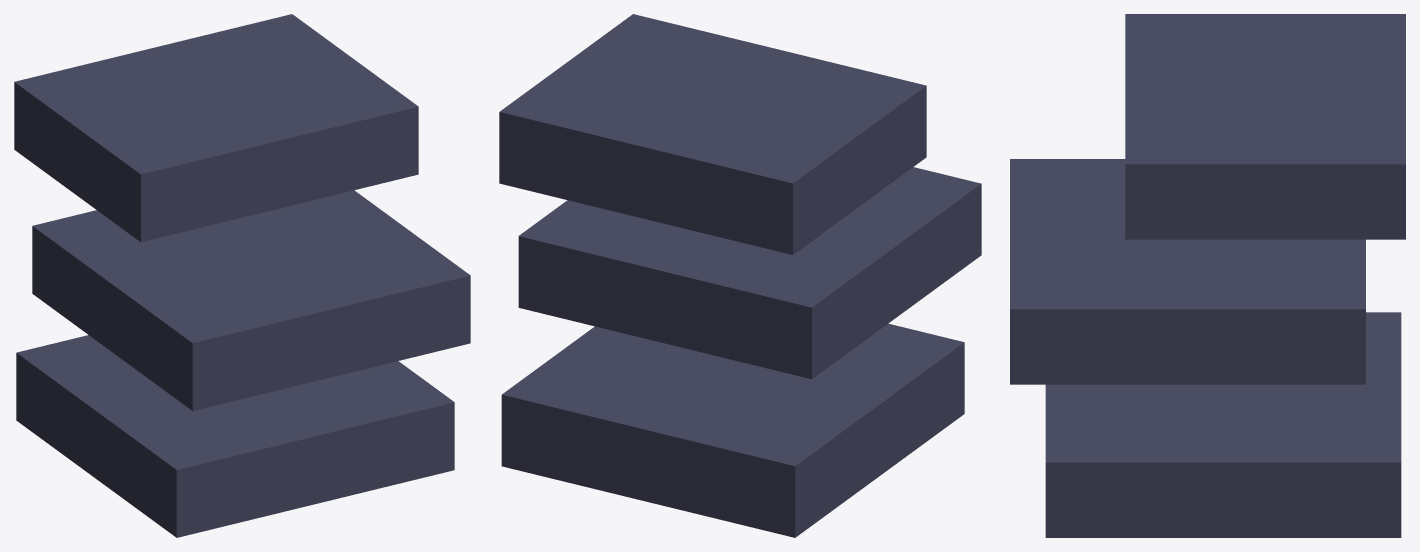
File: Env_Bottom_Windows_01_1.fbx
3 views of the same model, side by side, from view 1: azimuth 30°, elevation 25°; view 2: azimuth 150°, elevation 25°; view 3: azimuth 270°, elevation 25° (orthographic). The views are drawn at different scales.
Visible parts, largest first — view 1: Env_Bottom_Windows_01_1; view 2: Env_Bottom_Windows_01_1; view 3: Env_Bottom_Windows_01_1.
Part boxes in pixels (<box>): Env_Bottom_Windows_01_1: <box>14,14,470,537</box>; Env_Bottom_Windows_01_1: <box>499,14,981,537</box>; Env_Bottom_Windows_01_1: <box>1010,14,1405,537</box>.
Size of the model in its own units: 0.5818 by 0.6744 by 0.6472.
